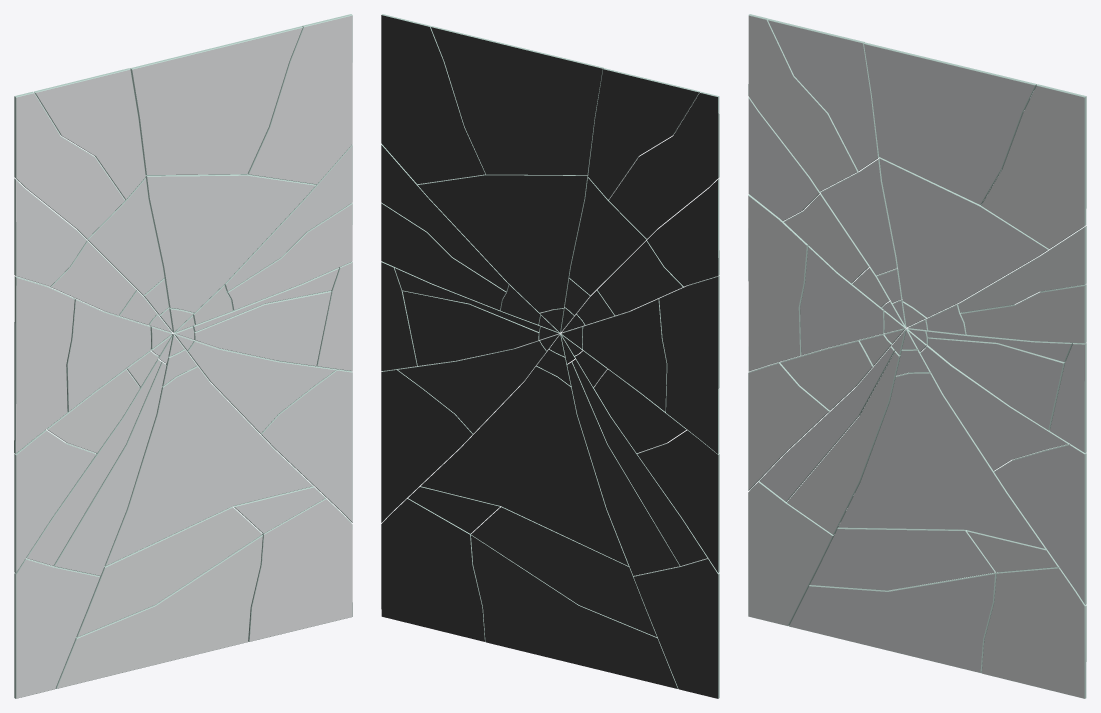
File: MirrorShards.fbx
The picture shows the model from 3 angles, left to right: view 1: azimuth 30°, elevation 25°; view 2: azimuth 150°, elevation 25°; view 3: azimuth 330°, elevation 25°; orthographic projection.
Parts seen in each view (by area): view 1: Mirror_Glass_Broken, Mirror_Shard_03, Mirror_Shard_01, Mirror_Shard_02; view 2: Mirror_Glass_Broken, Mirror_Shard_03, Mirror_Shard_01, Mirror_Shard_02; view 3: Mirror_Glass_Broken, Mirror_Shard_03, Mirror_Shard_01, Mirror_Shard_02.
Part boxes in pixels (left/top/right/bottom): Mirror_Glass_Broken: left=14, top=14, right=352, bottom=698; Mirror_Shard_03: left=105, top=366, right=312, bottom=566; Mirror_Shard_01: left=145, top=174, right=315, bottom=312; Mirror_Shard_02: left=66, top=298, right=150, bottom=411; Mirror_Glass_Broken: left=381, top=14, right=719, bottom=698; Mirror_Shard_03: left=421, top=366, right=628, bottom=566; Mirror_Shard_01: left=418, top=174, right=588, bottom=312; Mirror_Shard_02: left=582, top=298, right=667, bottom=411; Mirror_Glass_Broken: left=748, top=14, right=1086, bottom=698; Mirror_Shard_03: left=838, top=372, right=1046, bottom=548; Mirror_Shard_01: left=879, top=157, right=1048, bottom=317; Mirror_Shard_02: left=800, top=245, right=884, bottom=355.
Bounding box in the file's own units: 3.79 × 6.47 × 0.0398.
